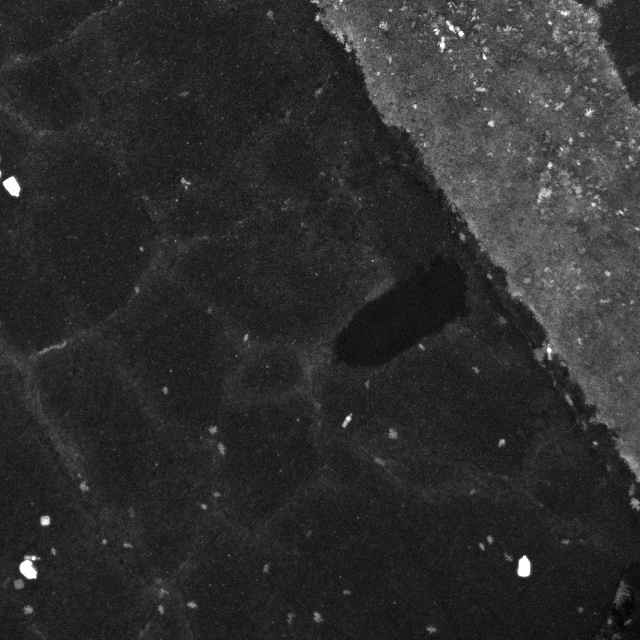bottle: (339, 412, 355, 433), (545, 340, 556, 360), (435, 37, 447, 54)
can: (516, 552, 534, 579)
container: (39, 516, 50, 529)
